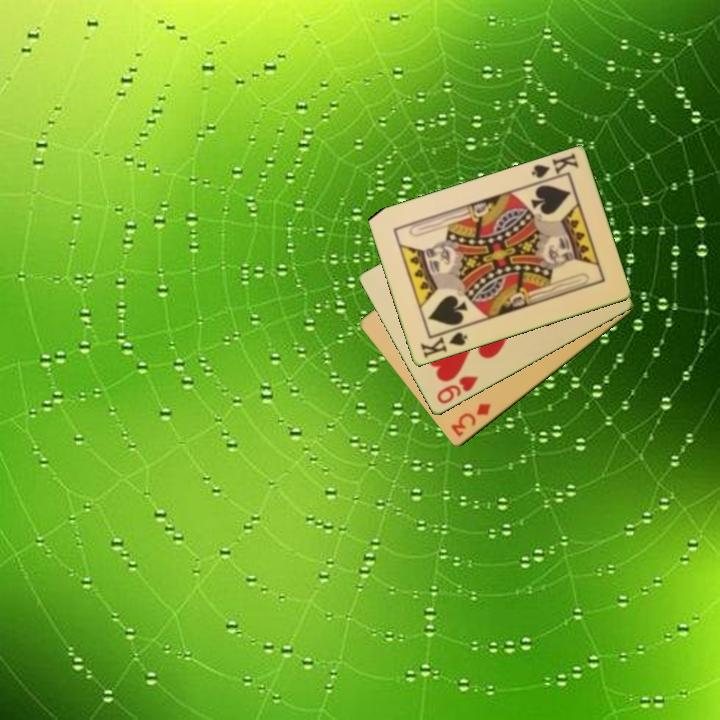3d: (447, 400, 494, 440)
9h: (433, 373, 481, 407)
Ks: (417, 324, 470, 361), (528, 150, 581, 187)
